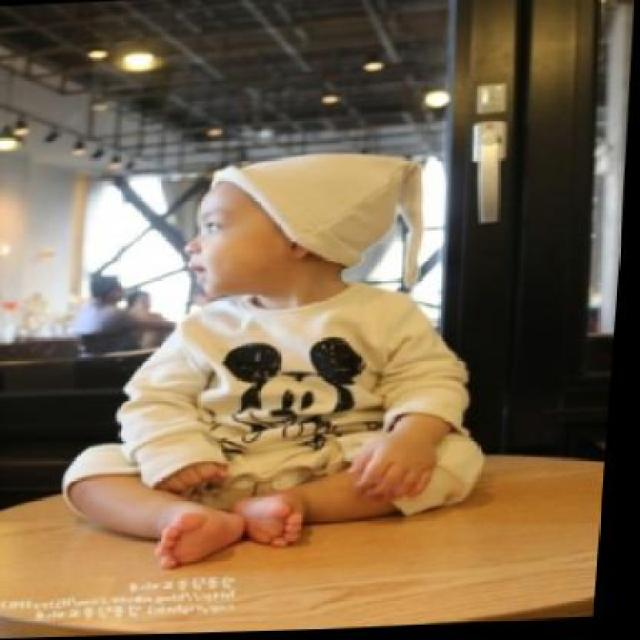hat: (205, 141, 438, 302)
